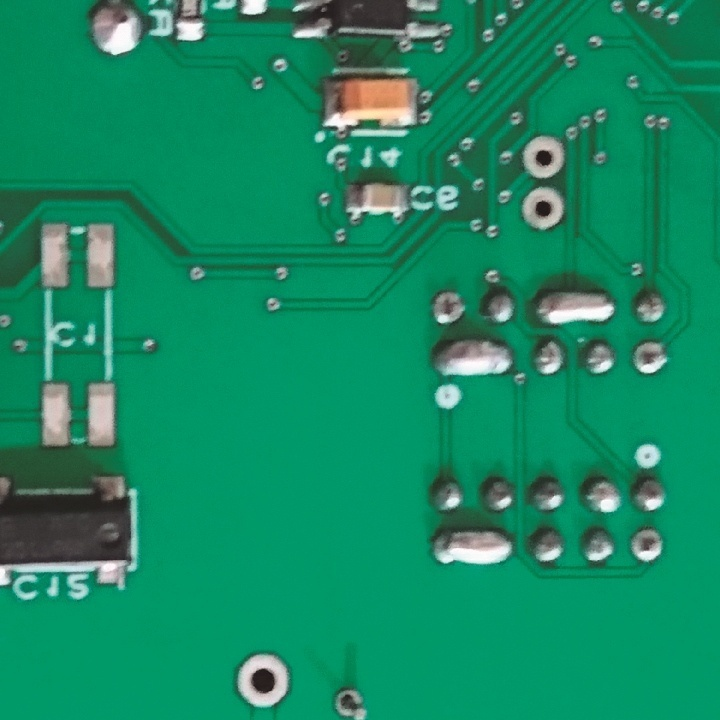F: (229, 648, 296, 709), (521, 183, 566, 234), (521, 135, 566, 180), (628, 526, 667, 566), (332, 683, 369, 720), (632, 339, 670, 375), (429, 289, 467, 324)
P: (431, 338, 514, 382), (432, 525, 511, 570), (531, 287, 616, 327)
